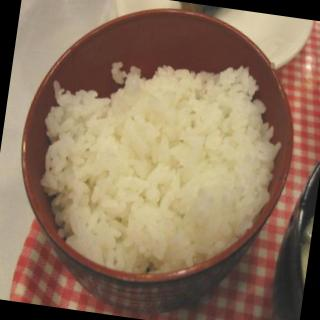Nasi: (24, 37, 293, 292)
